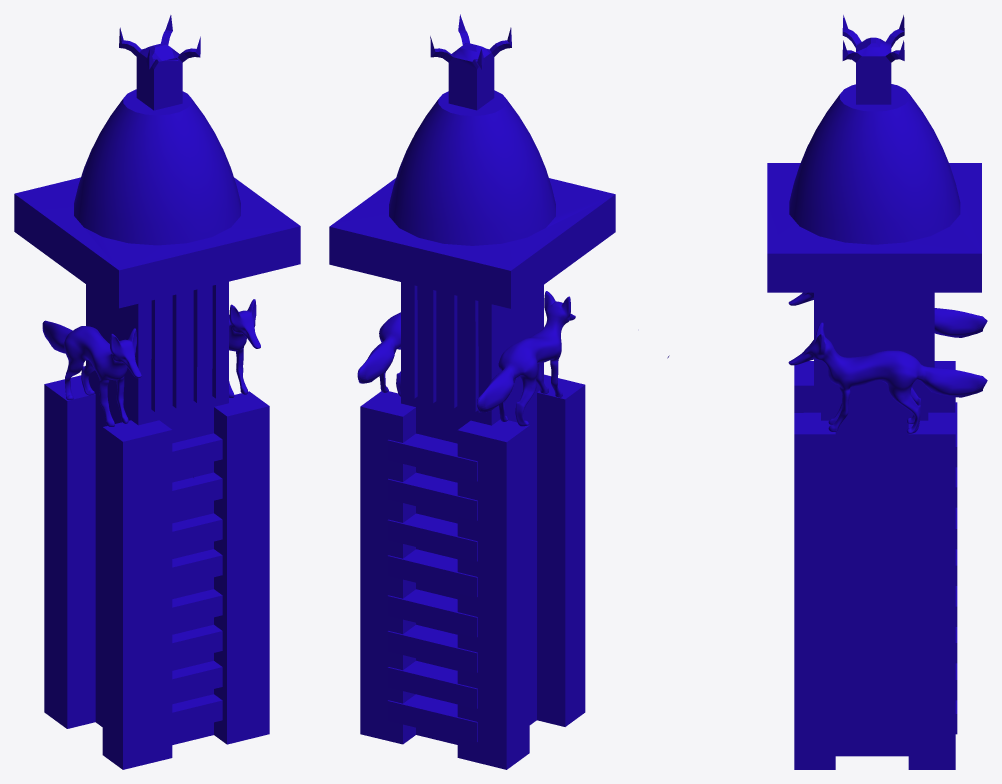
Rendered from Building1-2.FBX.
3 renders of one model, left to right at view 1: azimuth 30°, elevation 25°; view 2: azimuth 150°, elevation 25°; view 3: azimuth 270°, elevation 25°, orthographic. The views are drawn at different scales.
Parts seen in each view (by area): view 1: Box004, Object001; view 2: Box004, Object001; view 3: Box004, Object001.
Part boxes in pixels (<box>): Box004: <box>14,15,300,769</box>; Object001: <box>151,283,223,732</box>; Box004: <box>329,14,615,769</box>; Object001: <box>387,283,478,742</box>; Box004: <box>667,15,987,769</box>; Object001: <box>804,292,957,734</box>.
Bounding box in the file's own units: 102 × 370 × 152.
